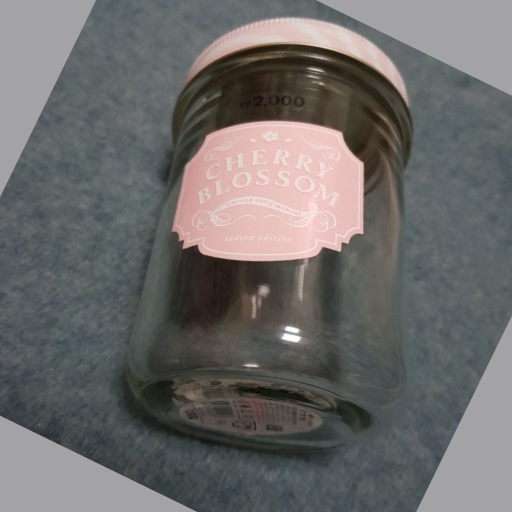Glass_5: (125, 16, 412, 453)
